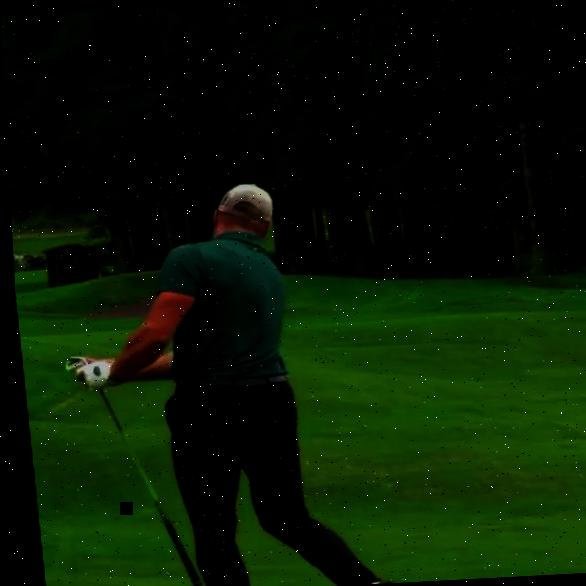ClubHead: (59, 353, 84, 372)
